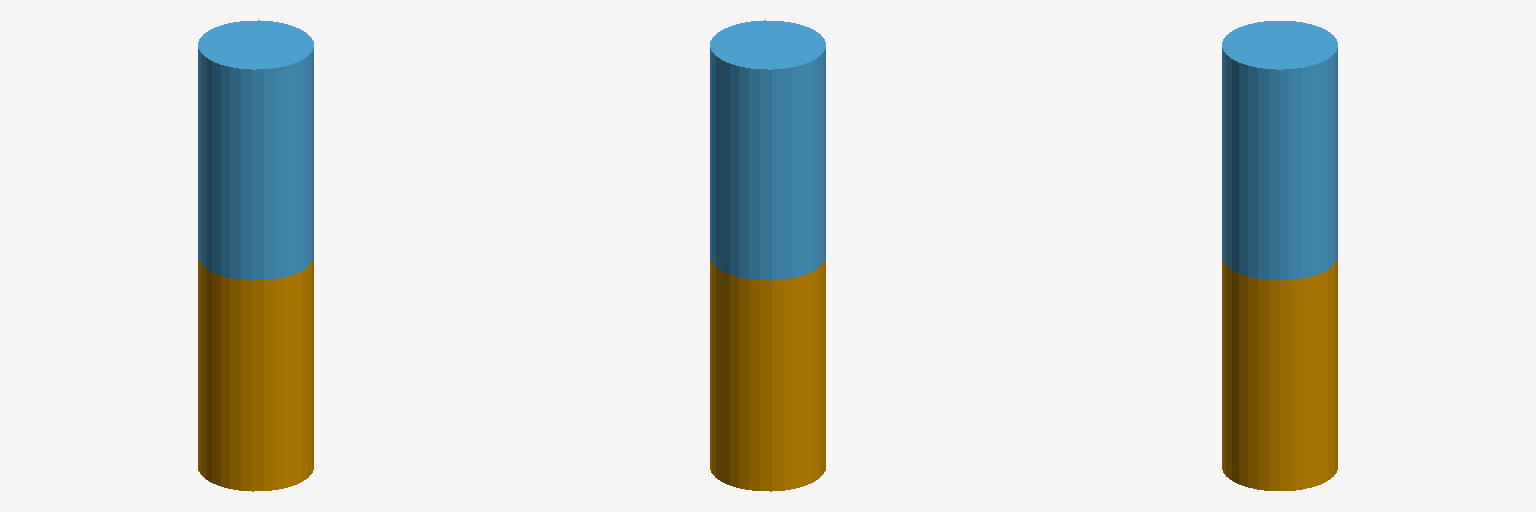
URDF robot description (two_cylinder_robot):
<?xml version="1.0"?>
<robot name="two_cylinder_robot">

    <!--定义第一个连杆-->
    <link name="link1">
        <visual>
            <geometry>
                <cylinder radius="0.05" length="0.2" />
            </geometry>
        </visual>
        <collision>
            <geometry>
                <cylinder radius="0.05" length="0.2" />
            </geometry>
        </collision>
        <inertial>
            <mass value="1.0" />
            <inertia ixx="0.001" ixy="0.0" ixz="0.0" iyy="0.001" iyz="0.0" izz="0.001" />
        </inertial>
    </link>
    <gazebo reference="link1">
        <material>Gazebo/Black</material>
    </gazebo>

    <!--定义第二个连杆-->
    <link name="link2">
        <visual>
            <geometry>
                <cylinder radius="0.05" length="0.2" />
            </geometry>
        </visual>
        <collision>
            <geometry>
                <cylinder radius="0.05" length="0.2" />
            </geometry>
        </collision>
        <inertial>
            <mass value="1.0" />
            <inertia ixx="0.001" ixy="0.0" ixz="0.0" iyy="0.001" iyz="0.0" izz="0.001" />
        </inertial>
    </link>

    <!--定义旋转关节-->
    <joint name="joint1" type="revolute">
        <parent link="link1" />
        <child link="link2" />
        <axis xyz="0 0 1" />
        <origin xyz="0 0 0.2" rpy="0 0 0" />
        <limit lower="-3.14" upper="3.14" effort="10.0" velocity="1.0" />
    </joint>

</robot>

--- Render facts (derived) ---
Views: 3 orthographic renders of the robot side by side, from view 1: azimuth 30°, elevation 25°; view 2: azimuth 150°, elevation 25°; view 3: azimuth 270°, elevation 25°.
Robot: two_cylinder_robot — 2 links, 1 joints (1 revolute); root link link1; default pose: every joint at zero.
Links seen in each view (by area): view 1: link2, link1; view 2: link2, link1; view 3: link2, link1.
Link boxes in pixels (x1,y1,x2,y2): link2: (198,20,313,280); link1: (198,259,313,491); link2: (710,20,825,280); link1: (710,259,825,491); link2: (1222,21,1337,280); link1: (1222,259,1337,490).
Size in the robot's own frame: 0.1 by 0.1 by 0.4 metres.
Geometry: primitives only (box / cylinder / sphere), no mesh files.
